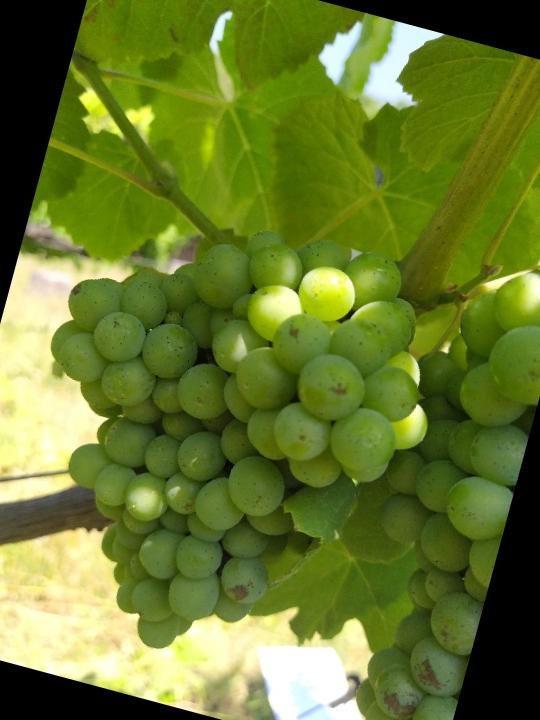grape: (0, 174, 473, 705)
